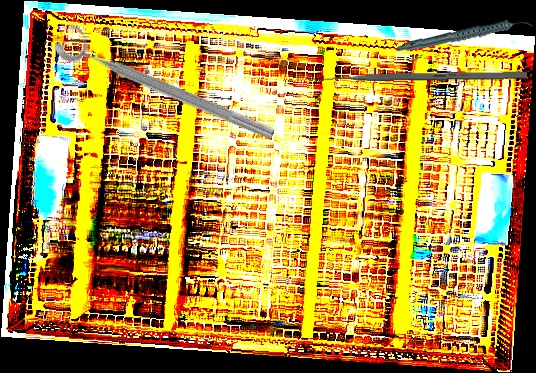Fixation Ring: (50, 18, 284, 147)
Handpiece: (396, 15, 534, 57)
Pusher: (309, 71, 528, 83)
